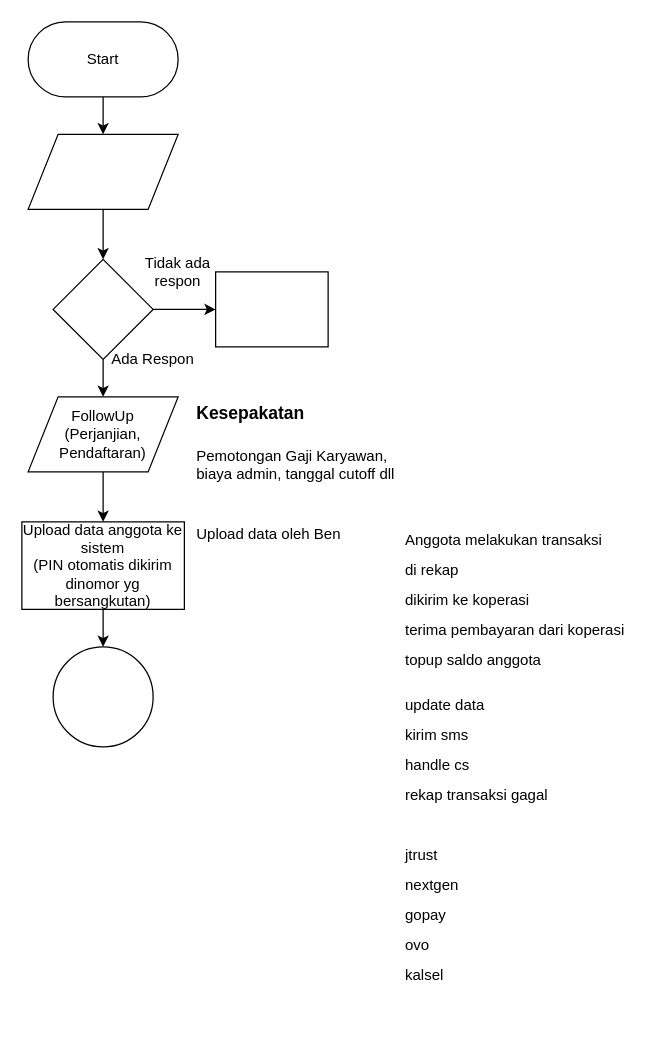
This 663x1050 diagram has some shape labels left out. The shapes that lost their labels are listed below. From the top down, each one's centre as x and y in pixels, then its label:
At [102,171]: "Mengajukan Kerjasama (Marketing)".
At [271,309]: "FollowUp".
